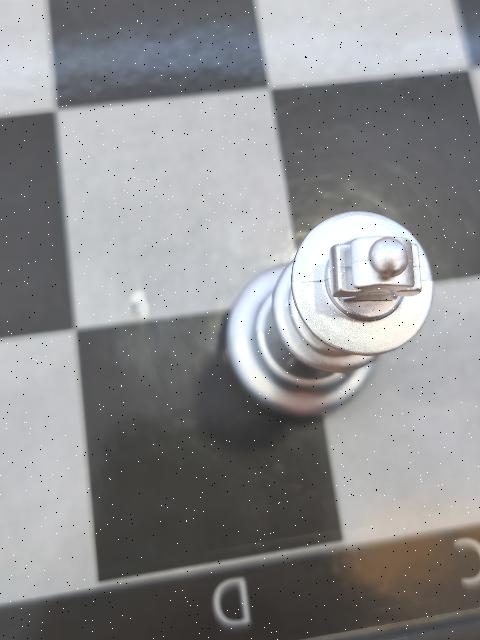white_king: (227, 211, 433, 416)
